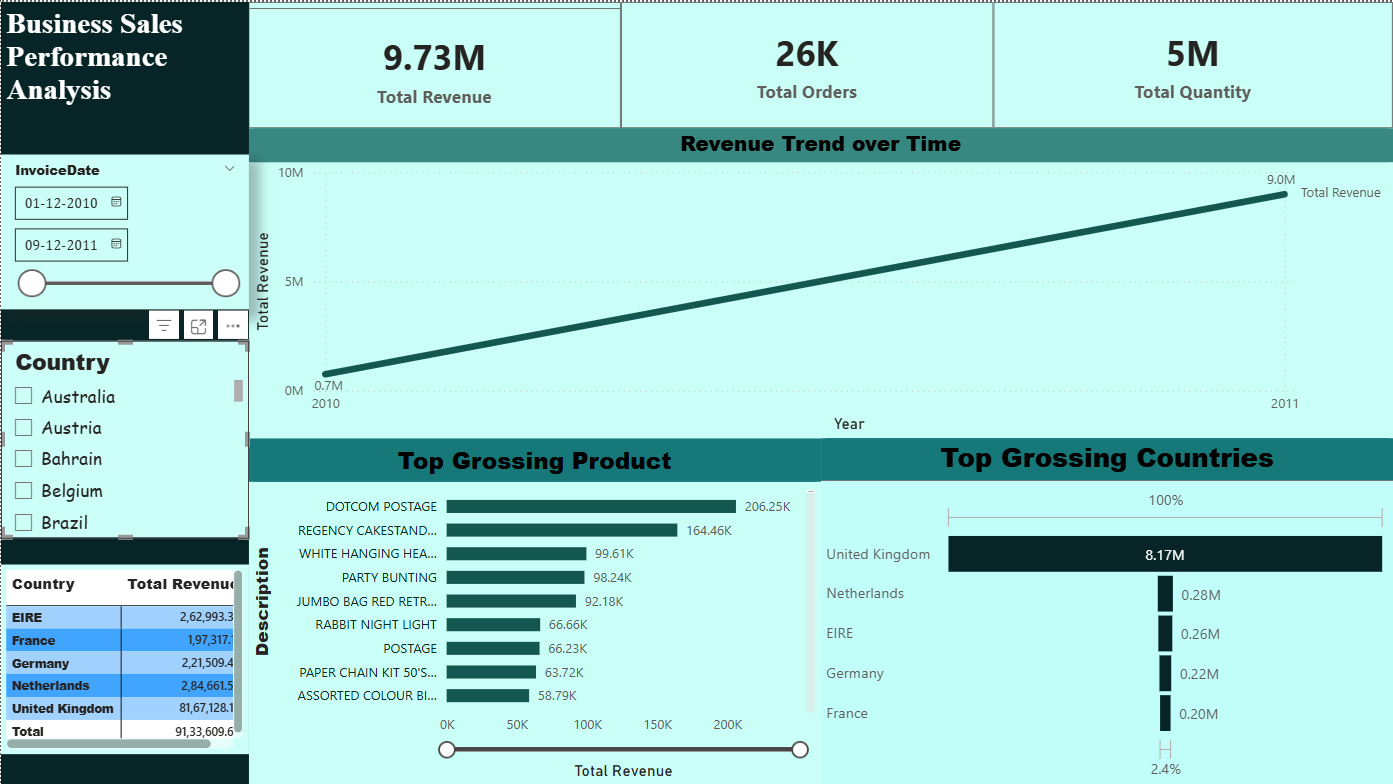

This screenshot's page, from the dashboard's own definition file:
{"tool":"powerbi","page":{"name":"Page 1","canvas":[1280,720],"ordinal":0},"visuals":[{"type":"card","fields":{"Values":["cleaned_data.Total Revenue"]},"box":[227.9,0,342.6,116.4],"z":0},{"type":"card","fields":{"Values":["cleaned_data.Total Orders"]},"box":[570.5,0,342.6,116.4],"z":1000},{"type":"card","fields":{"Values":["cleaned_data.Total Quantity"]},"box":[913.1,0,367.2,116.4],"z":2000},{"type":"lineChart","title":"Revenue Trend over Time","fields":{"Category":["cleaned_data.InvoiceDate.Variation.Date Hierarchy.Year","cleaned_data.InvoiceDate.Variation.Date Hierarchy.Quarter","cleaned_data.InvoiceDate.Variation.Date Hierarchy.Month","cleaned_data.InvoiceDate.Variation.Date Hierarchy.Day"],"Y":["cleaned_data.Total Revenue"]},"box":[227.9,116.4,1052.5,285.2],"z":3000},{"type":"clusteredBarChart","title":"Top Grossing Product","fields":{"Y":["cleaned_data.Total Revenue"],"Category":["cleaned_data.Description"]},"box":[227.9,401.6,526.2,318],"z":4000},{"type":"textbox","box":[0,0,227.9,719.7],"z":5001},{"type":"funnel","title":"Top Grossing Countries","fields":{"Y":["cleaned_data.Total Revenue"],"Category":["cleaned_data.Country"]},"box":[754.1,401.6,526.2,318],"z":5002}]}

Visuals, with their boxes in screenshot pixels (x1, y1, x2, y2):
card - cleaned_data.Total Revenue: Rect(245, 0, 612, 125)
card - cleaned_data.Total Orders: Rect(612, 0, 980, 125)
card - cleaned_data.Total Quantity: Rect(980, 0, 1374, 125)
"Revenue Trend over Time" lineChart: Rect(245, 125, 1374, 431)
"Top Grossing Product" clusteredBarChart: Rect(245, 431, 809, 772)
textbox: Rect(0, 0, 245, 772)
"Top Grossing Countries" funnel: Rect(809, 431, 1374, 772)
